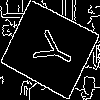Y: (24, 24, 78, 74)
